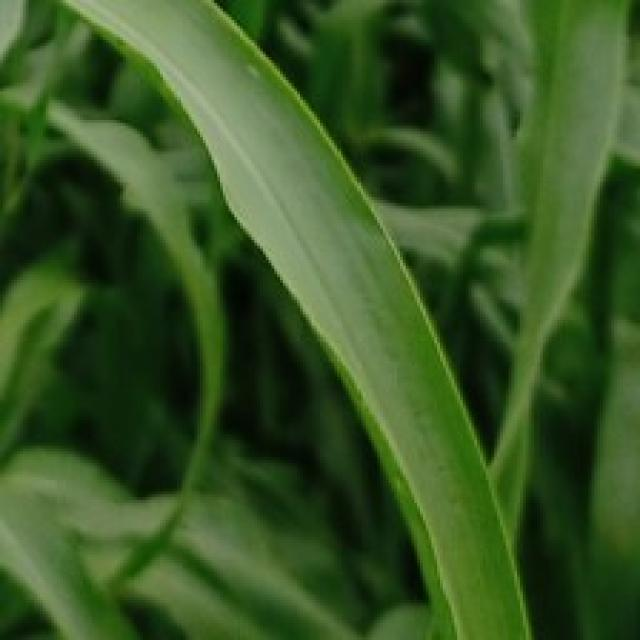Corn: (0, 0, 546, 637)
